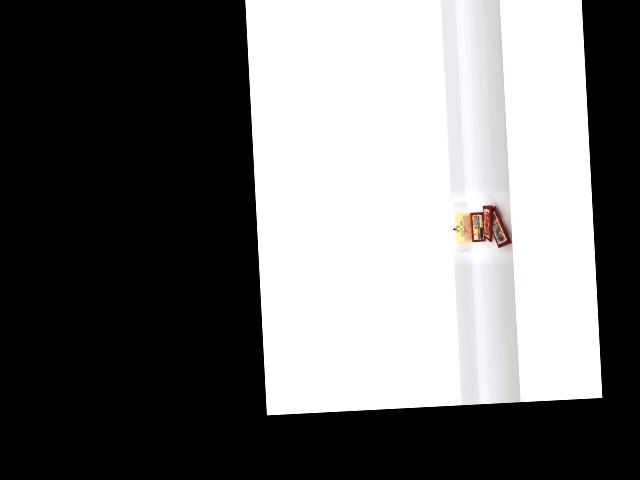chocolate: (488, 202, 515, 257)
